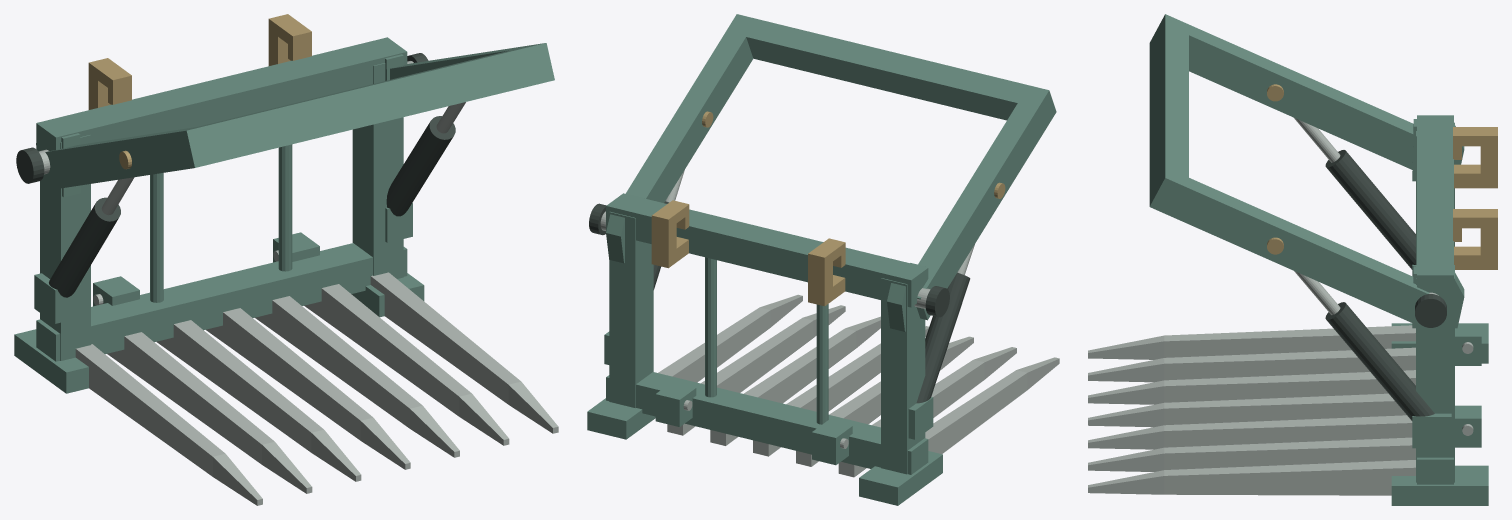
3 renders of one model, left to right at view 1: azimuth 30°, elevation 25°; view 2: azimuth 150°, elevation 25°; view 3: azimuth 270°, elevation 25°, orthographic. The views are drawn at different scales.
Parts seen in each view (by area): view 1: WholeContinuousRaisedThreeEdgeUJaw, WholeUpperRearCarrierCrossbeam, WholeLowerRearCarrierCrossbeam, WholeLongBluntLowerTine2, WholeLongBluntLowerTine1, WholeLongBluntLowerTine5, WholeLongBluntLowerTine3, WholeLongBluntLowerTine4, WholeLongBluntLowerTine6, WholeRightRearCarrierUpright, WholeLongBluntLowerTine0, WholeLeftRearCarrierUpright (+13 smaller); view 2: WholeContinuousRaisedThreeEdgeUJaw, WholeUpperRearCarrierCrossbeam, WholeLowerRearCarrierCrossbeam, WholeRightRearCarrierUpright, WholeLeftRearCarrierUpright, WholeLongBluntLowerTine0, WholeLongBluntLowerTine5, WholeLongBluntLowerTine4, WholeLongBluntLowerTine6, WholeLongBluntLowerTine3, WholeLongBluntLowerTine1, WholeLeftRearFrameFoot (+13 smaller); view 3: WholeContinuousRaisedThreeEdgeUJaw, WholeLongBluntLowerTine6, WholeLongBluntLowerTine5, WholeLongBluntLowerTine4, WholeLongBluntLowerTine3, WholeUpperRearCarrierCrossbeam, WholeLongBluntLowerTine2, WholeLongBluntLowerTine1, WholeLongBluntLowerTine0, WholeRightRearCarrierUpright, WholeRightFixedCylinderBarrel, WholeLeftFixedCylinderBarrel (+11 smaller).
Part boxes in pixels (x1,y1,x2,y2): WholeContinuousRaisedThreeEdgeUJaw: (43, 43, 554, 190); WholeUpperRearCarrierCrossbeam: (36, 37, 407, 151); WholeLowerRearCarrierCrossbeam: (36, 243, 407, 361); WholeLongBluntLowerTine2: (156, 320, 361, 481); WholeLongBluntLowerTine1: (107, 332, 312, 493); WholeLongBluntLowerTine5: (304, 284, 509, 445); WholeLongBluntLowerTine3: (206, 308, 410, 469); WholeLongBluntLowerTine4: (255, 296, 459, 457); WholeLongBluntLowerTine6: (370, 272, 558, 433); WholeRightRearCarrierUpright: (352, 63, 403, 278); WholeLongBluntLowerTine0: (75, 344, 262, 505); WholeLeftRearCarrierUpright: (40, 135, 90, 360); WholeContinuousRaisedThreeEdgeUJaw: (625, 14, 1056, 320); WholeUpperRearCarrierCrossbeam: (606, 193, 928, 307); WholeLowerRearCarrierCrossbeam: (606, 372, 928, 474); WholeRightRearCarrierUpright: (609, 211, 653, 407); WholeLeftRearCarrierUpright: (881, 278, 925, 474); WholeLongBluntLowerTine0: (925, 357, 1059, 453); WholeLongBluntLowerTine5: (667, 305, 845, 435); WholeLongBluntLowerTine4: (710, 316, 880, 445); WholeLongBluntLowerTine6: (658, 294, 802, 382); WholeLongBluntLowerTine3: (753, 326, 928, 456); WholeLongBluntLowerTine1: (838, 347, 1016, 477); WholeLeftRearFrameFoot: (859, 451, 942, 505); WholeContinuousRaisedThreeEdgeUJaw: (1149, 14, 1429, 329); WholeLongBluntLowerTine6: (1088, 460, 1415, 495); WholeLongBluntLowerTine5: (1088, 437, 1415, 471); WholeLongBluntLowerTine4: (1088, 415, 1412, 449); WholeLongBluntLowerTine3: (1088, 393, 1406, 427); WholeUpperRearCarrierCrossbeam: (1417, 115, 1453, 304); WholeLongBluntLowerTine2: (1088, 370, 1415, 404); WholeLongBluntLowerTine1: (1088, 347, 1415, 382); WholeLongBluntLowerTine0: (1088, 325, 1415, 359); WholeRightRearCarrierUpright: (1416, 265, 1454, 482); WholeRightFixedCylinderBarrel: (1325, 302, 1434, 420); WholeLeftFixedCylinderBarrel: (1325, 150, 1415, 269).
Bounding box in the file's own units: 1.86 × 1.57 × 1.77.
